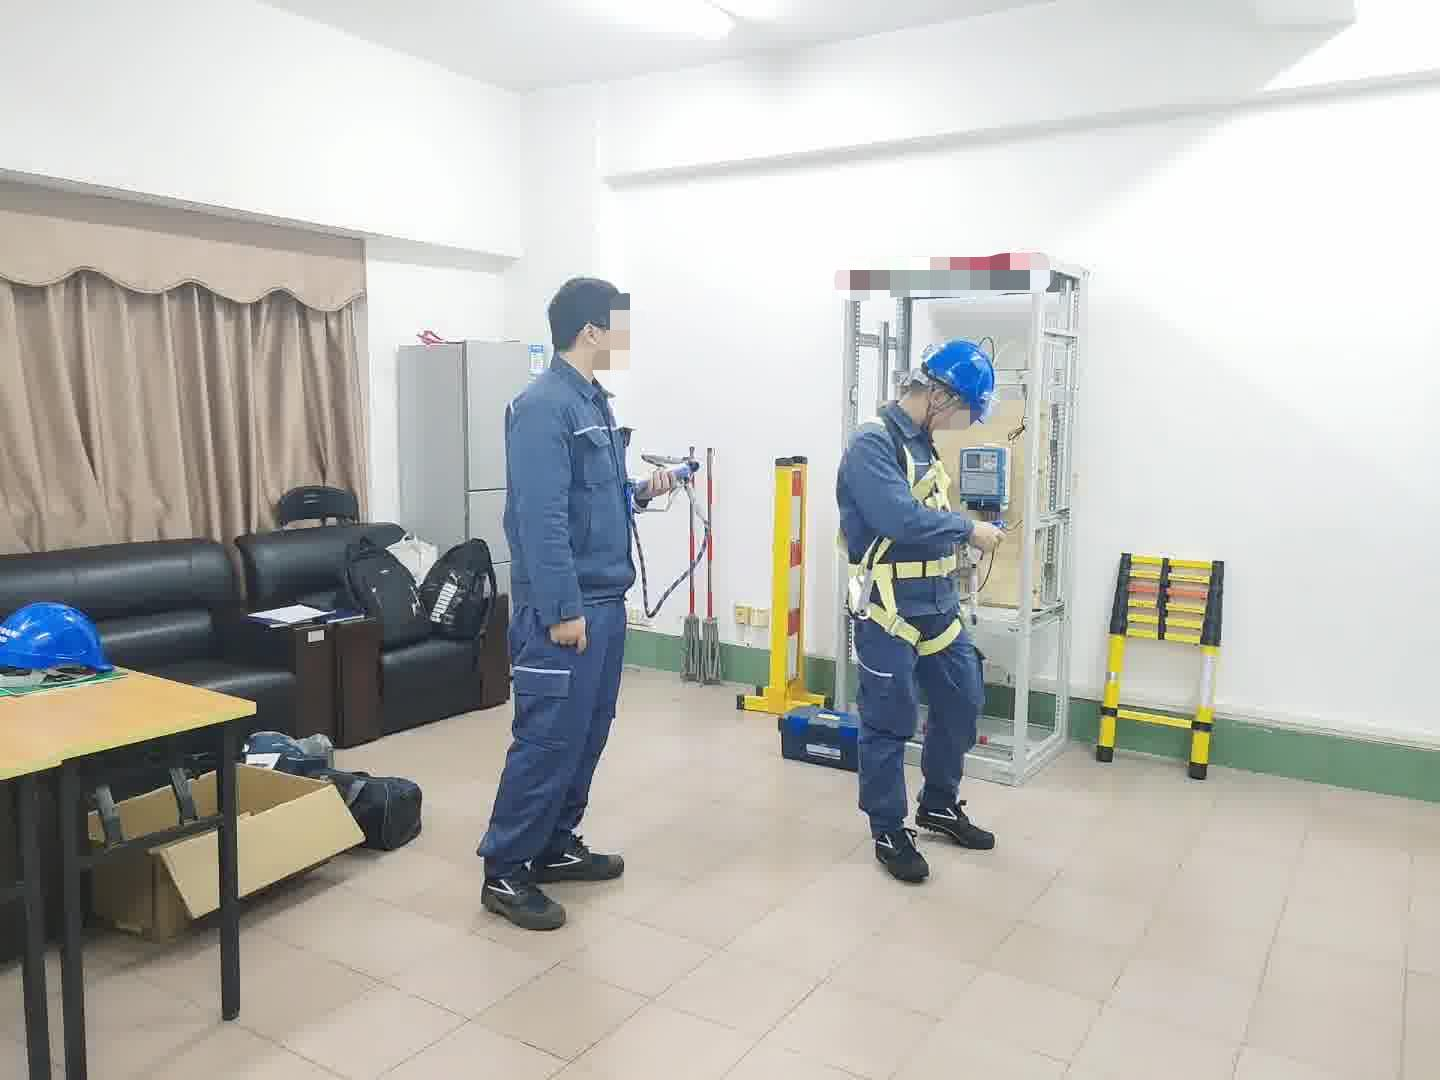halt: (903, 340, 1000, 437)
inear: (922, 385, 962, 430)
noear: (577, 319, 610, 361)
unhalt: (548, 280, 636, 376)
